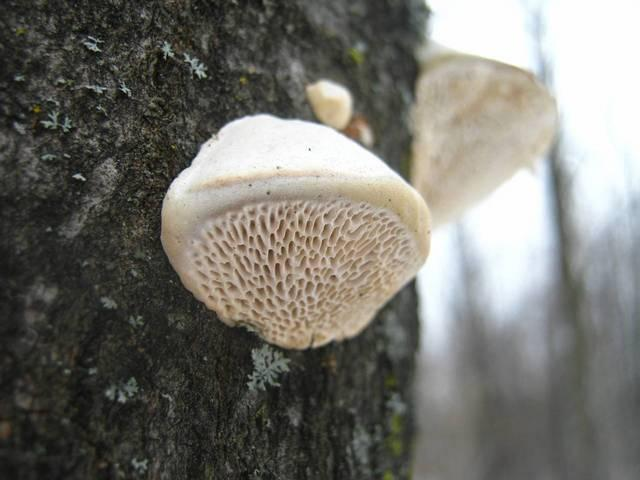poisonous_mushroom: (158, 112, 433, 351)
